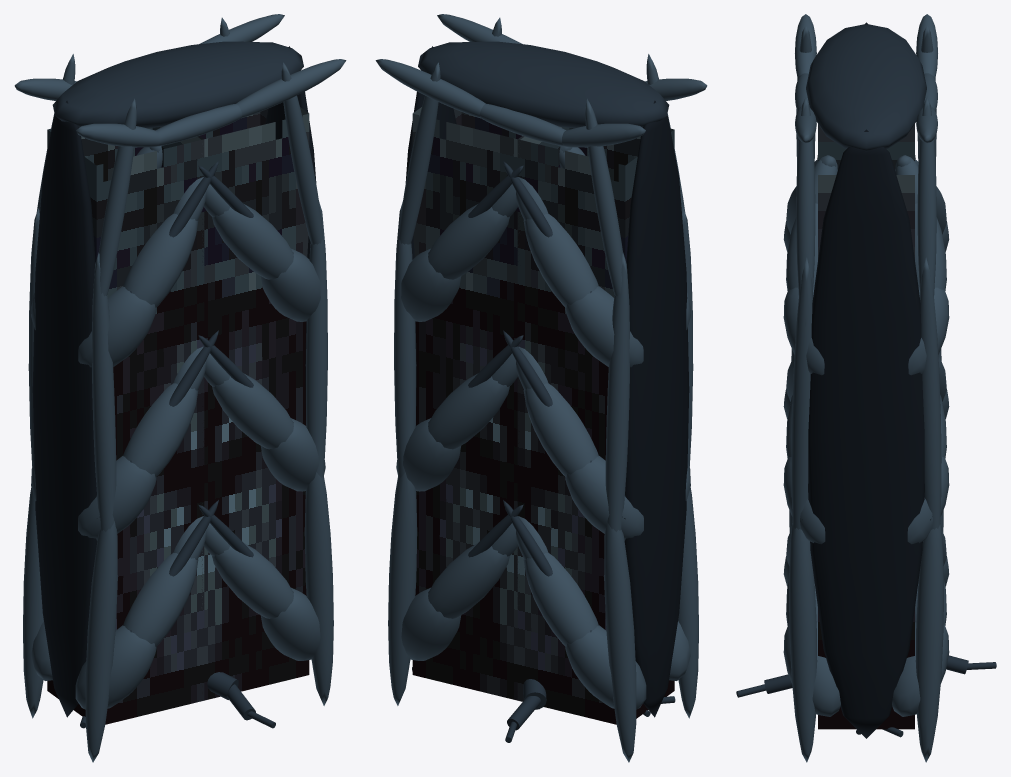
The model's file is CMU3DHiveDoorXenoResinThickWeedbound.glb.
The picture shows the model from 3 angles, left to right: view 1: azimuth 30°, elevation 25°; view 2: azimuth 150°, elevation 25°; view 3: azimuth 270°, elevation 25°; orthographic projection.
Parts seen in each view (by area): view 1: closed contracting membrane (×2), diagonal muscular leaf fold (×13), resin jamb tissue (×2), curved jamb tendon (×8), fleshy overhanging lintel, swept lintel fold (×5), raised leaf seam (×6); view 2: closed contracting membrane (×2), diagonal muscular leaf fold (×13), resin jamb tissue (×2), curved jamb tendon (×8), fleshy overhanging lintel, swept lintel fold (×5), raised leaf seam (×6); view 3: resin jamb tissue, curved jamb tendon (×6), fleshy overhanging lintel, diagonal muscular leaf fold (×8), closed contracting membrane (×2), swept lintel fold (×4).
Boxes of the visible parts, x1,y1,x2,y2 form: closed contracting membrane (×2): (47, 107, 309, 724); diagonal muscular leaf fold (×13): (31, 204, 325, 709); resin jamb tissue (×2): (32, 46, 316, 717); curved jamb tendon (×8): (23, 62, 333, 762); fleshy overhanging lintel: (52, 41, 303, 128); swept lintel fold (×5): (14, 14, 346, 147); raised leaf seam (×6): (169, 161, 253, 576); closed contracting membrane (×2): (412, 107, 674, 724); diagonal muscular leaf fold (×13): (396, 204, 690, 709); resin jamb tissue (×2): (405, 46, 689, 717); curved jamb tendon (×8): (388, 62, 698, 762); fleshy overhanging lintel: (418, 41, 669, 128); swept lintel fold (×5): (375, 14, 707, 147); raised leaf seam (×6): (468, 161, 552, 576); resin jamb tissue: (808, 129, 924, 738); curved jamb tendon (×6): (789, 96, 943, 762); fleshy overhanging lintel: (806, 24, 926, 151); diagonal muscular leaf fold (×8): (783, 203, 949, 716); closed contracting membrane (×2): (818, 124, 914, 729); swept lintel fold (×4): (795, 14, 937, 142).
Bounding box in the file's own units: 1.12 × 2.59 × 0.944.
5 materials, 2 textured.
